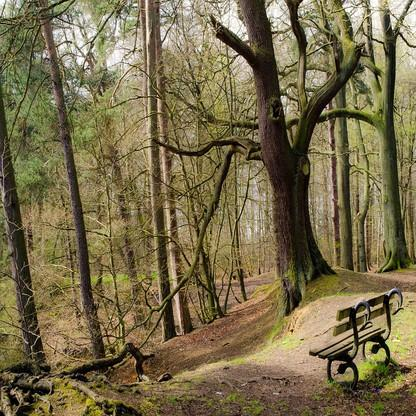obstacle: (291, 291, 407, 389)
